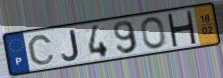4: (88, 23, 111, 59)
9: (112, 19, 140, 55)
C: (26, 34, 57, 66)
H: (165, 10, 198, 48)
J: (60, 28, 81, 62)
O: (140, 16, 168, 50)
